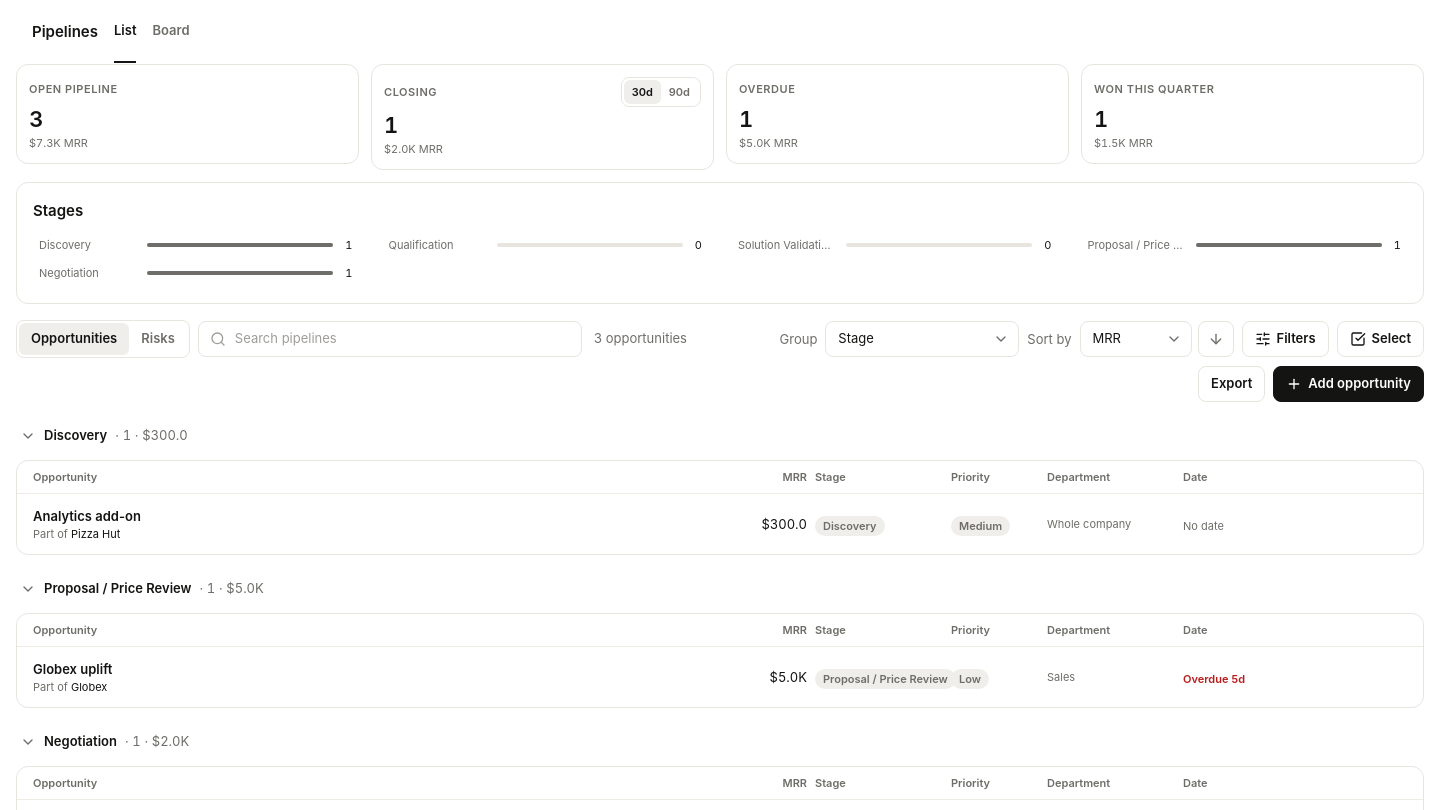
Test: Pipelines list › deletes from the form after a confirmation
The width and height of the screenshot is (1440, 810).
Step 1. Click the button "Analytics add-on" → (87, 516), box left=33, top=506, right=719, bottom=526
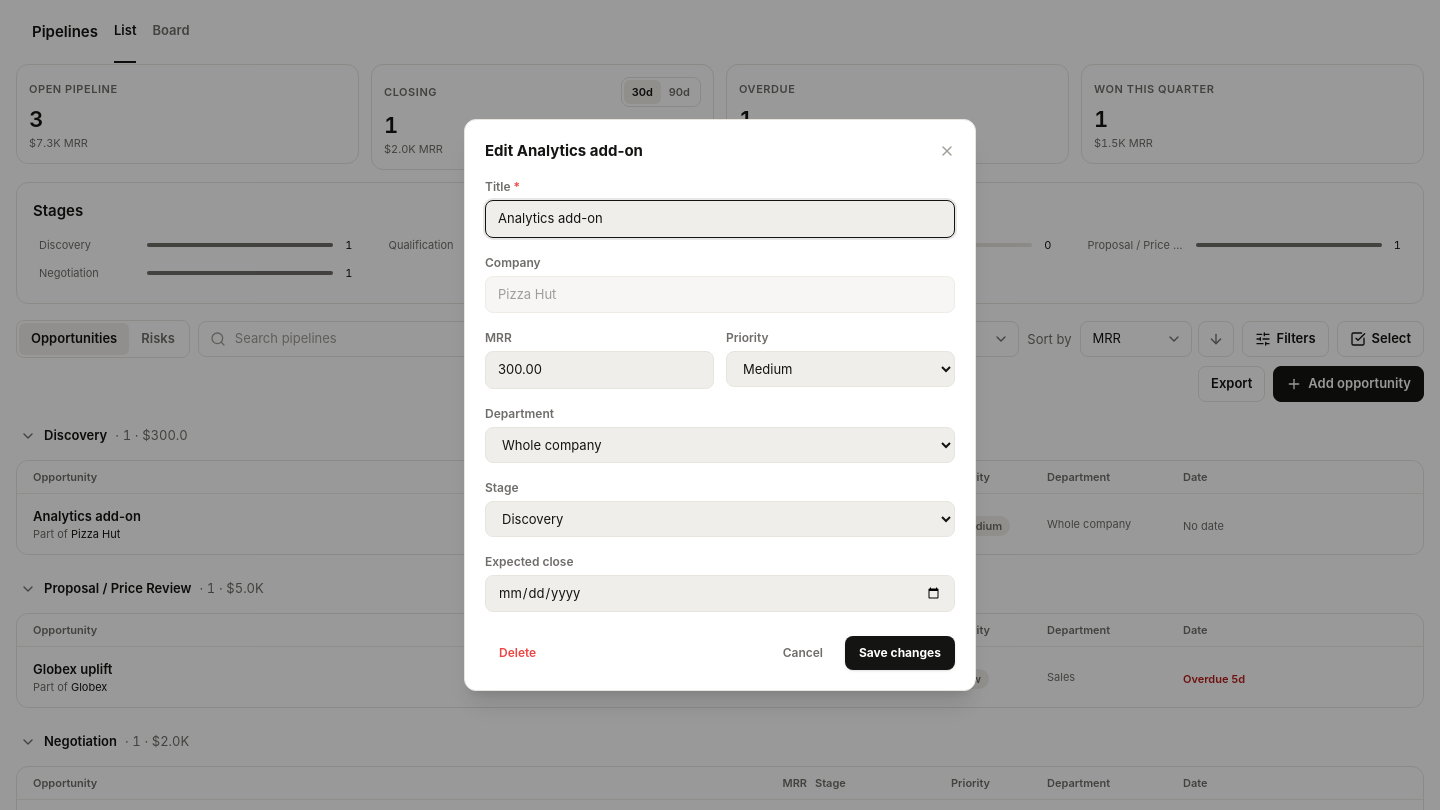
Step 2. Click the button "Delete" → (518, 653), box left=485, top=636, right=550, bottom=670
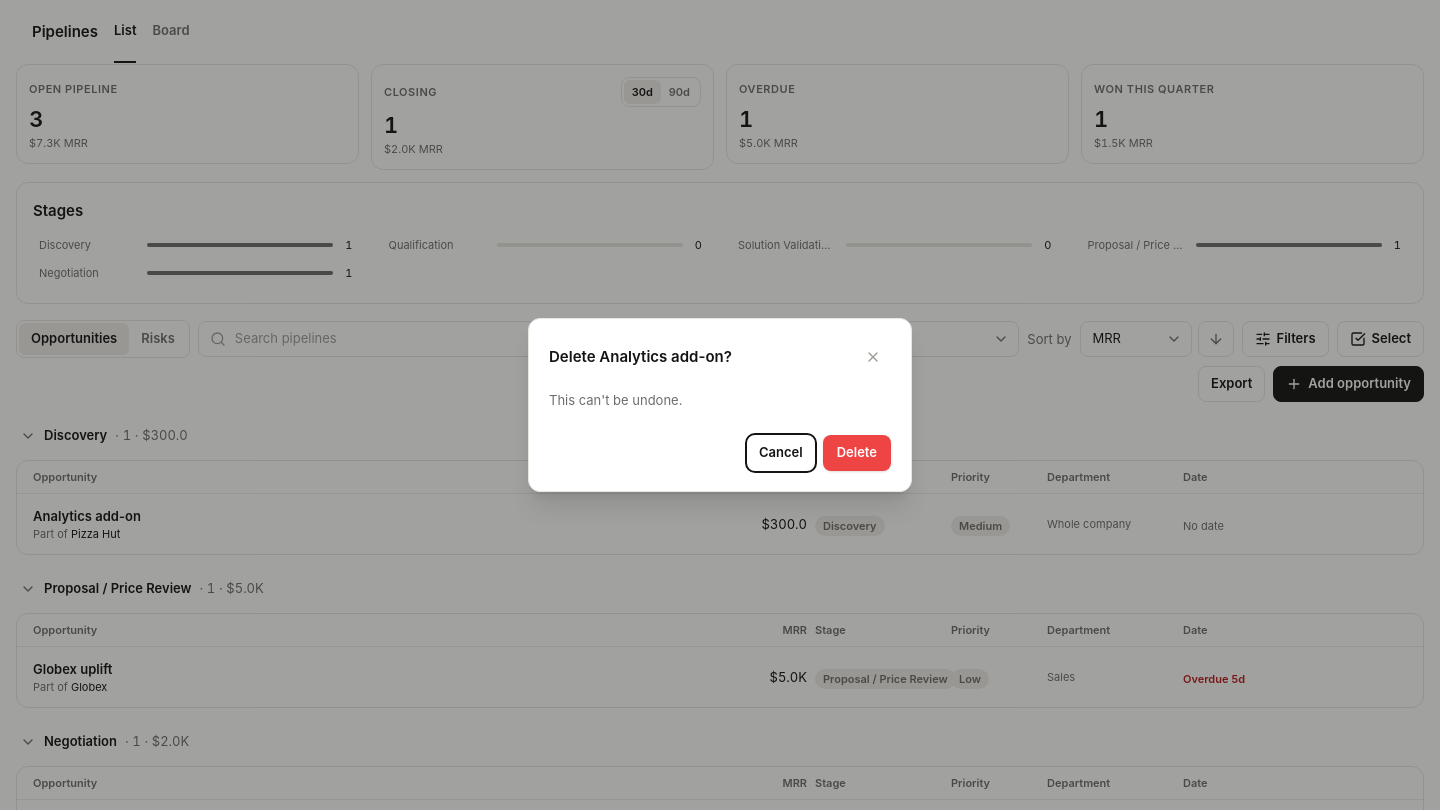
Now the heading "Delete Analytics add-on?" is shown, box left=549, top=346, right=732, bottom=368
Step 3. Click the button "Delete" → (857, 453), box left=823, top=435, right=891, bottom=471
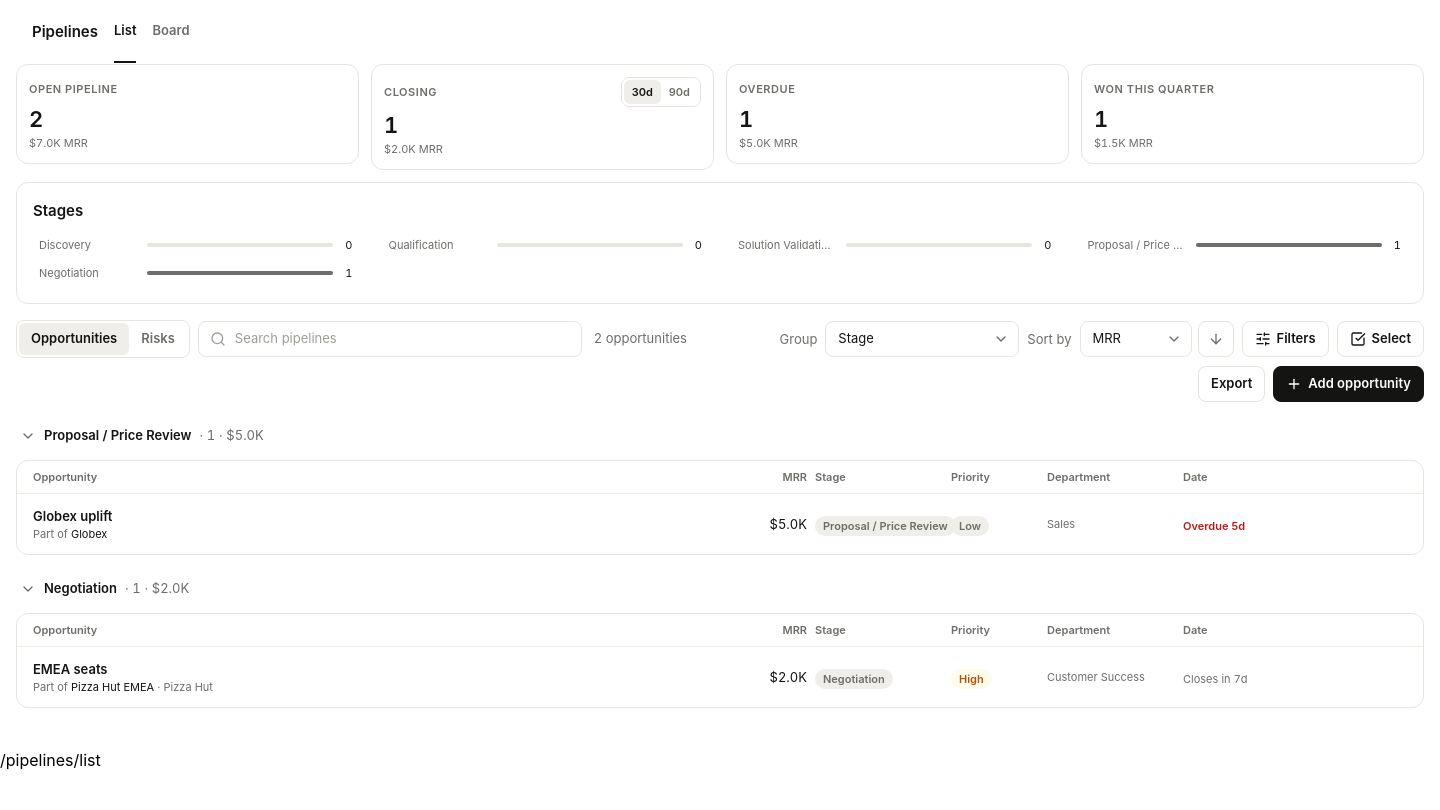
Now the button "Analytics add-on" is gone
